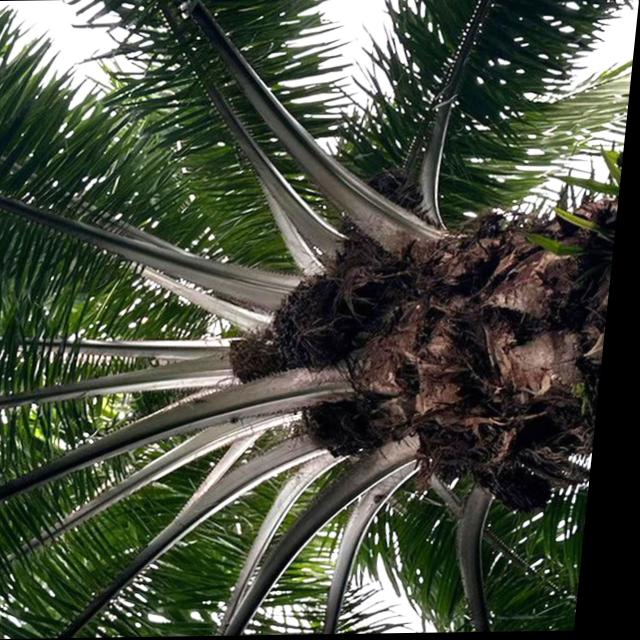unripe: (271, 263, 367, 372), (305, 396, 395, 466), (227, 333, 286, 387)
